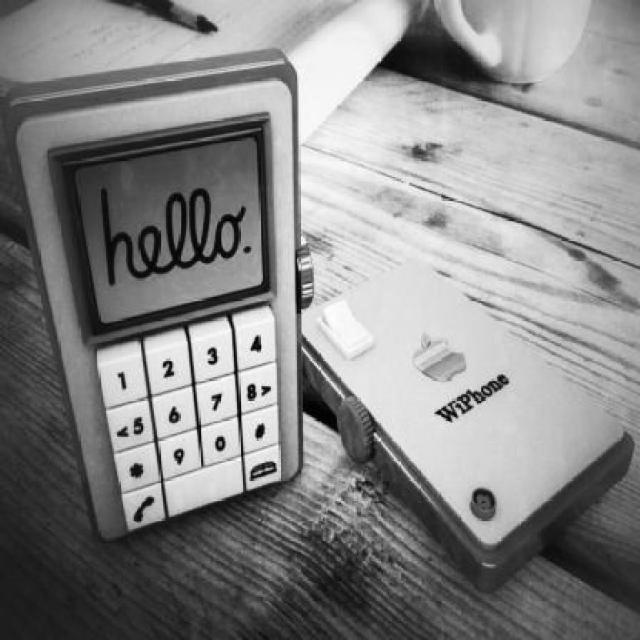fake: (299, 253, 636, 598)
